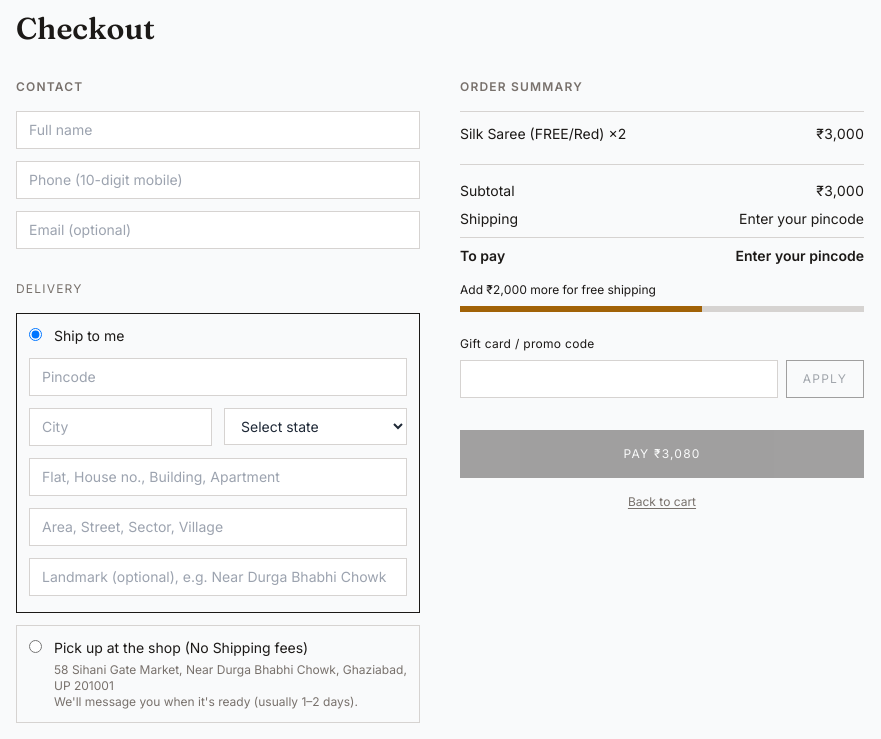
Scenario: shows server totals and a Pay button with the gateway amount
Expected: the text with test id "quote-shipping" reads "Enter your pincode", [739,210,864,227]
Expected: the text with test id "quote-to-pay" reads "Enter your pincode", [736,247,864,264]
Type "Priya Sharma" into the field with placeholder "Full name" at {"x": 218, "y": 130}, box [16,111,420,149]
Type "9810873280" into the field with placeholder "Phone (10-digit mobile)" at {"x": 218, "y": 180}, box [16,161,420,199]
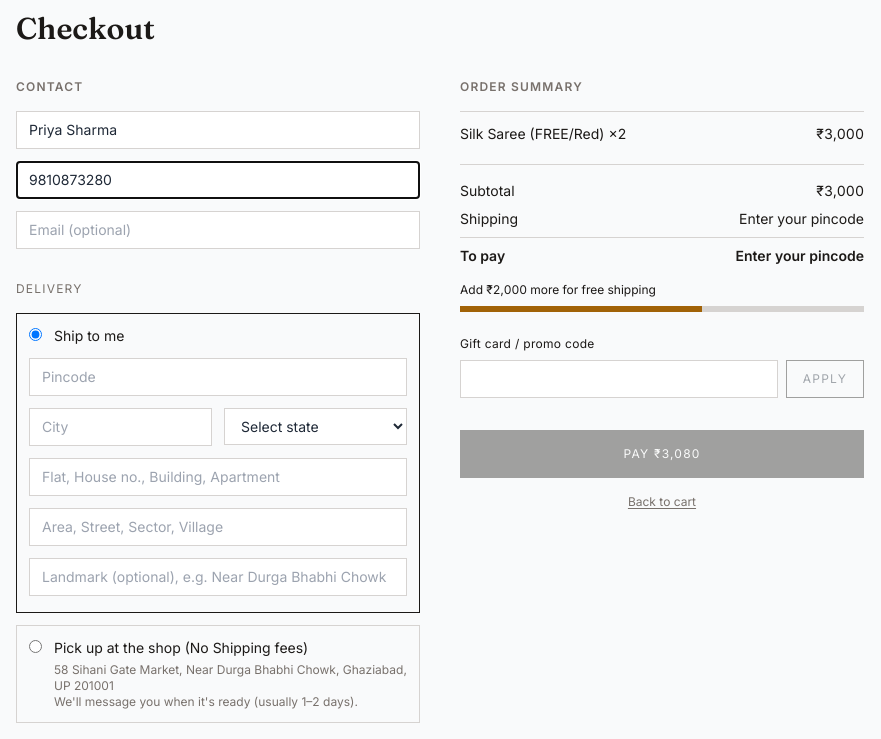
Type "201001" into the field with placeholder "Pincode" at {"x": 218, "y": 377}, box [29,358,407,396]
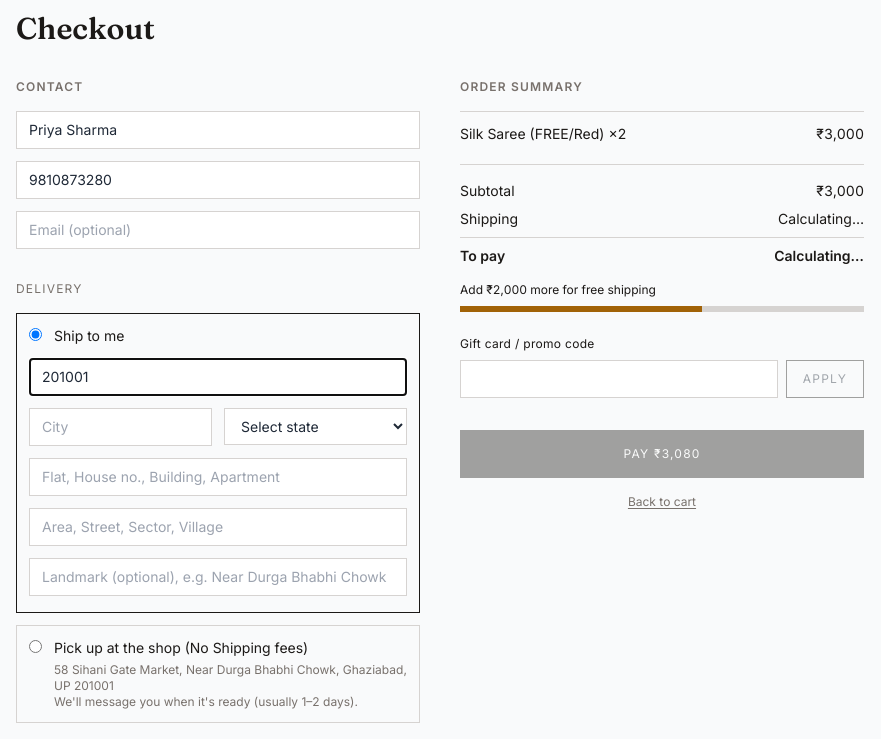
Type "58" into the field with placeholder "Flat, House no., Building, Apartment" at {"x": 218, "y": 477}, box [29,458,407,496]
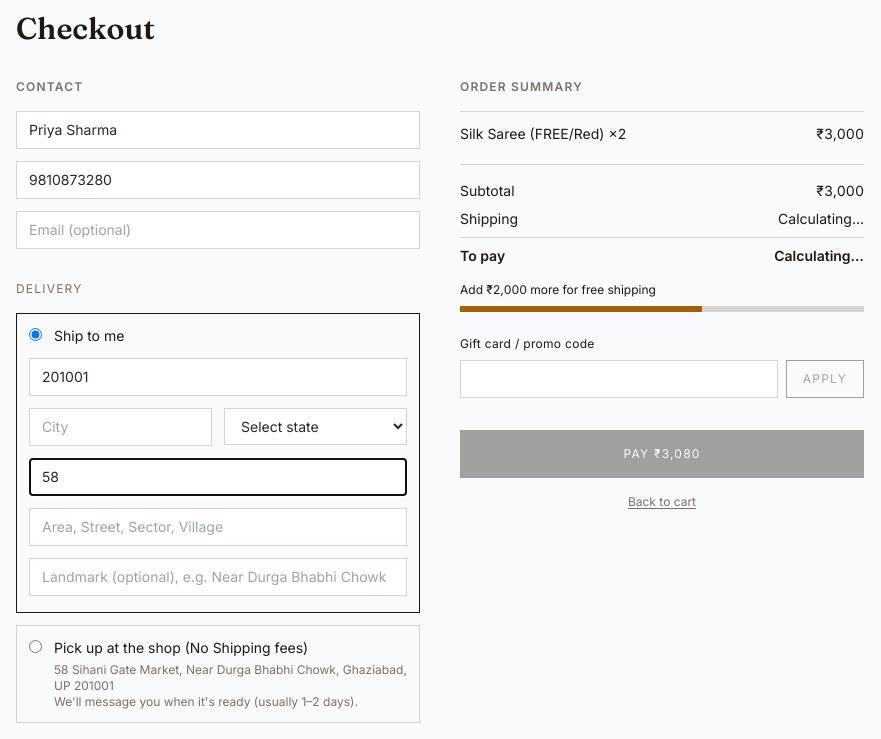
Type "Sihani Gate Market" into the field with placeholder "Area, Street, Sector, Village" at {"x": 218, "y": 527}, box [29,508,407,546]
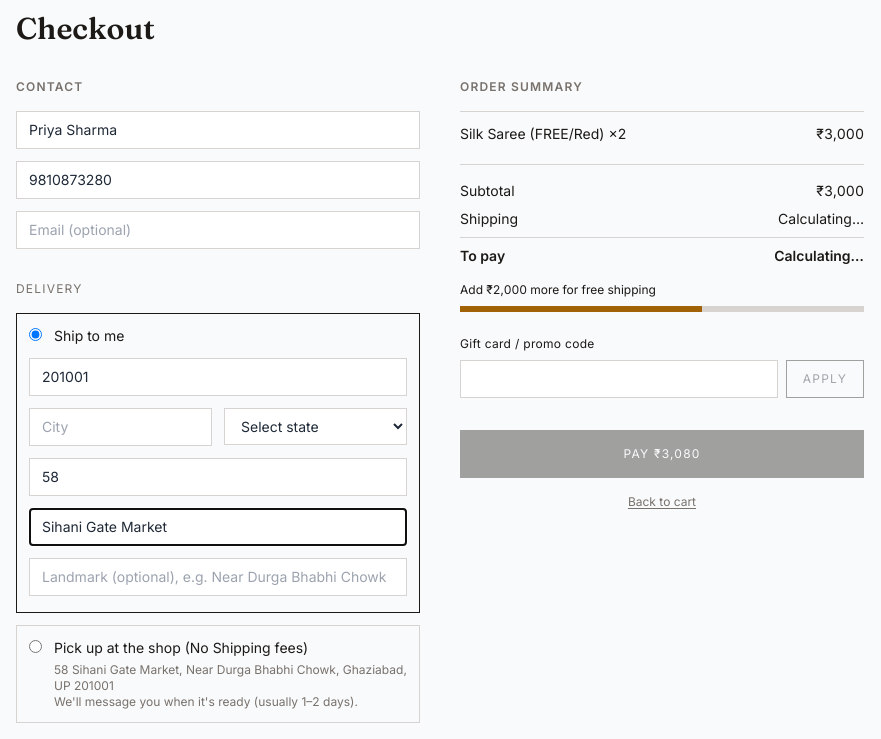
Type "Ghaziabad" into the field with placeholder "City" at {"x": 120, "y": 427}, box [29,408,212,446]
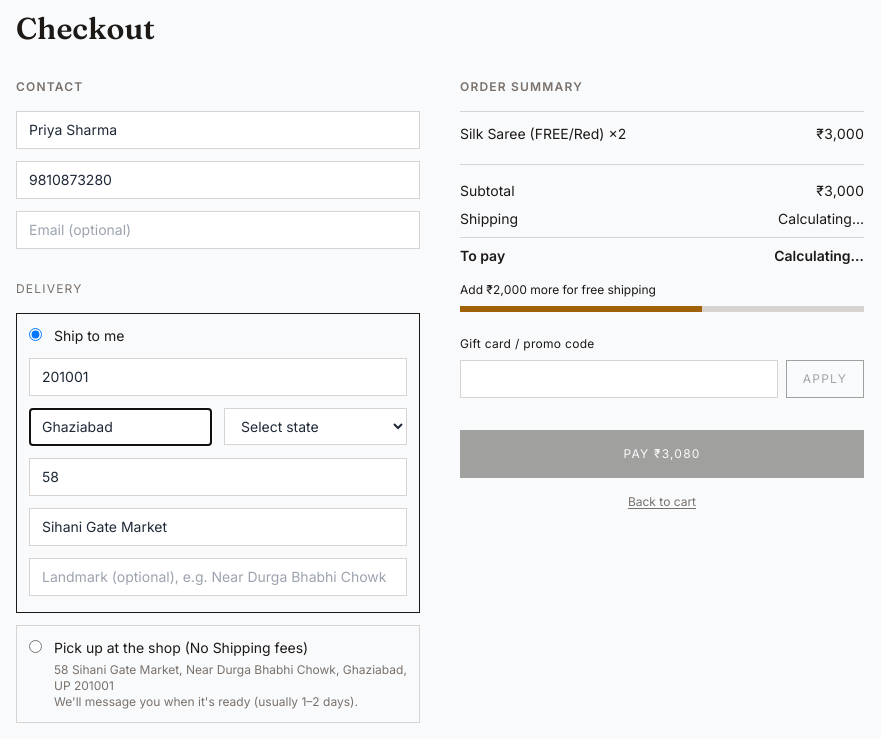
Select "Uttar Pradesh" in the dropdown at {"x": 316, "y": 426}, box [224,408,407,445]
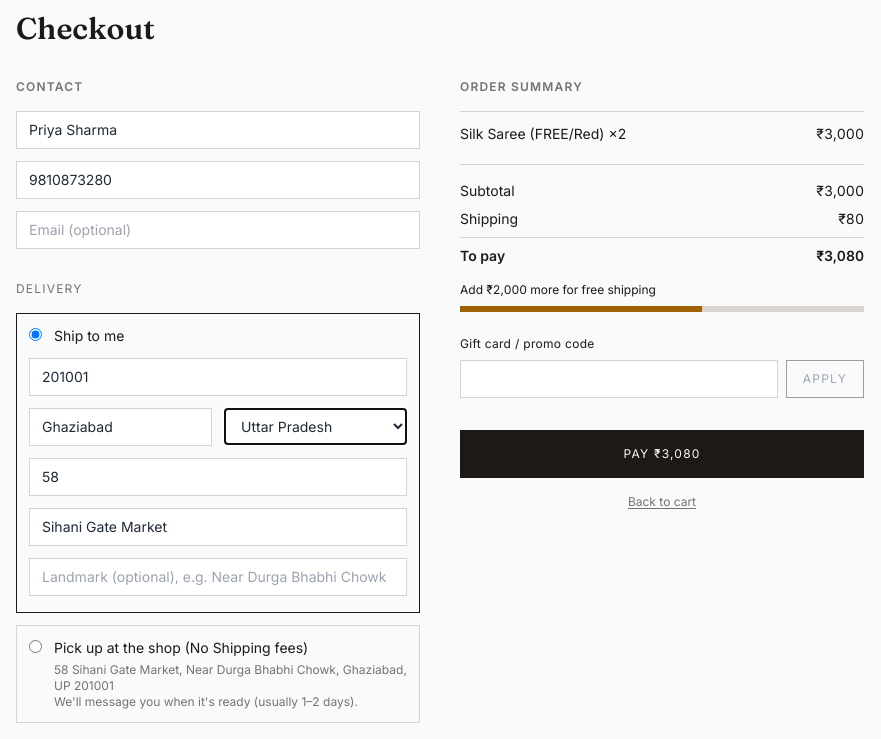
Expected: the text with test id "quote-shipping" reads "₹80", [838,210,864,227]
Expected: the text with test id "quote-to-pay" reads "₹3,080", [816,247,864,264]
Expected: the button "Pay ₹3,080" is enabled, [460,430,864,478]
